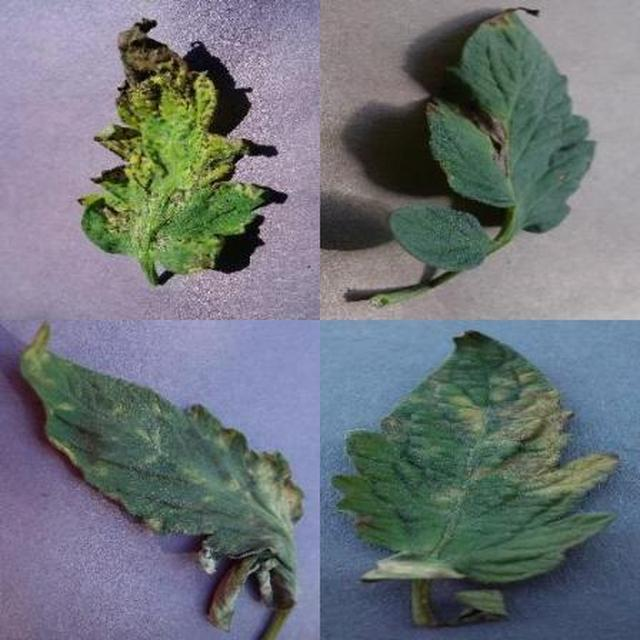Septoria Leaf: (144, 99, 640, 640)
